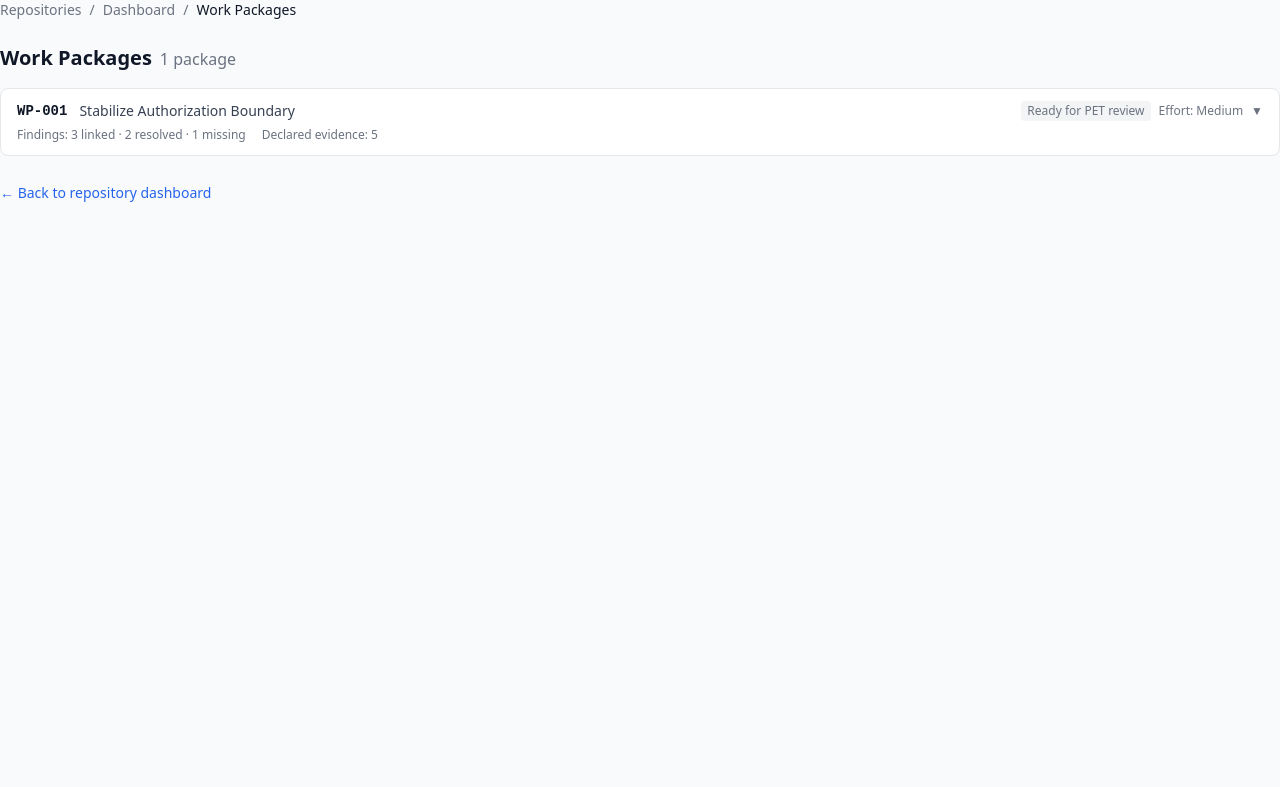
Test: WorkPackages view states › renders malformed linked finding warning
The image size is (1280, 787).
Check: the text "Stabilize Authorization Boundary" is shown, box x1=79 y1=101 x2=295 y2=121
Click the button: (42, 111) x1=1 y1=89 x2=1279 y2=155
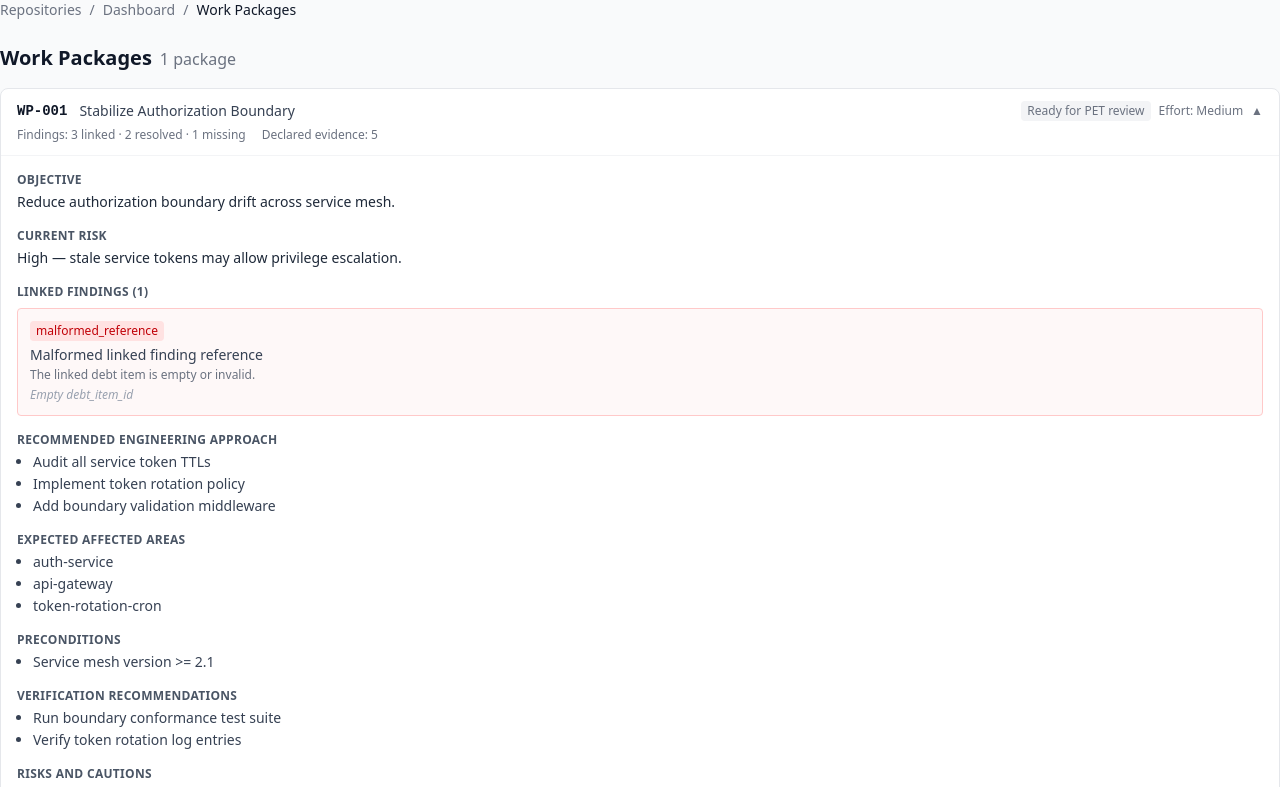
Check: the text "Malformed linked finding reference" is shown, box x1=30 y1=345 x2=263 y2=364
Check: the text "Empty debt_item_id" is shown, box x1=30 y1=386 x2=133 y2=403
